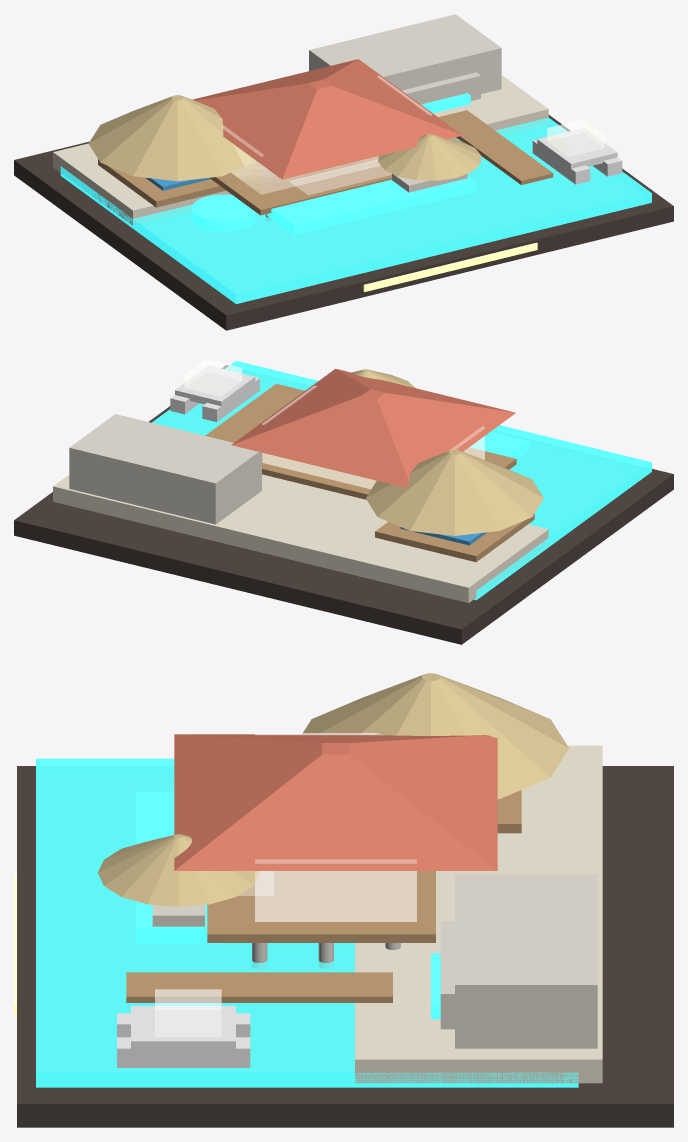
Rendered from maqueta_02_okinawa.glb.
3 renders of one model, top to bottom at view 1: azimuth 30°, elevation 25°; view 2: azimuth 150°, elevation 25°; view 3: azimuth 270°, elevation 25°, orthographic. The views are drawn at different scales.
Visible parts, largest first — view 1: LagoonWaterBase, RyukyuRoofMain, MaquetaPlinth, BambooPalapaVault, LimestoneCliffBack, WhiteCoralBeach, SaltInfinityPool, OverwaterDeck, RobataThatchRoof, WoodenPier, MainVillaGlass, CatamaranDeck (+9 smaller); view 2: MaquetaPlinth, WhiteCoralBeach, RyukyuRoofMain, LimestoneCliffBack, LagoonWaterBase, BambooPalapaVault, OverwaterDeck, DojoBeachDeck, WoodenPier, CatamaranDeck, MainVillaGlass, CatamaranCabin (+3 smaller); view 3: MaquetaPlinth, LagoonWaterBase, RyukyuRoofMain, WhiteCoralBeach, LimestoneCliffBack, OverwaterDeck, BambooPalapaVault, MainVillaGlass, WoodenPier, RobataThatchRoof, CatamaranDeck, SaltInfinityPool (+7 smaller).
Part boxes in pixels (left/top/right/bottom): LagoonWaterBase: left=60, top=117, right=651, bottom=303; RyukyuRoofMain: left=193, top=59, right=462, bottom=179; MaquetaPlinth: left=14, top=115, right=673, bottom=330; BambooPalapaVault: left=88, top=95, right=255, bottom=181; LimestoneCliffBack: left=309, top=14, right=501, bottom=93; WhiteCoralBeach: left=53, top=75, right=548, bottom=225; SaltInfinityPool: left=266, top=176, right=475, bottom=235; OverwaterDeck: left=209, top=156, right=391, bottom=215; RobataThatchRoof: left=378, top=134, right=481, bottom=180; WoodenPier: left=438, top=110, right=553, bottom=184; MainVillaGlass: left=222, top=76, right=431, bottom=194; CatamaranDeck: left=537, top=128, right=617, bottom=168; MaquetaPlinth: left=14, top=365, right=673, bottom=644; WhiteCoralBeach: left=53, top=474, right=548, bottom=602; RyukyuRoofMain: left=231, top=368, right=515, bottom=487; LimestoneCliffBack: left=69, top=414, right=261, bottom=524; LagoonWaterBase: left=152, top=361, right=651, bottom=600; BambooPalapaVault: left=365, top=449, right=543, bottom=535; OverwaterDeck: left=262, top=447, right=516, bottom=499; DojoBeachDeck: left=375, top=513, right=534, bottom=562; WoodenPier: left=205, top=383, right=304, bottom=442; CatamaranDeck: left=175, top=365, right=255, bottom=406; MainVillaGlass: left=262, top=386, right=484, bottom=489; CatamaranCabin: left=184, top=359, right=242, bottom=396; MaquetaPlinth: left=17, top=766, right=673, bottom=1127; LagoonWaterBase: left=36, top=758, right=578, bottom=1087; RyukyuRoofMain: left=174, top=734, right=497, bottom=870; WhiteCoralBeach: left=355, top=745, right=602, bottom=1083; LimestoneCliffBack: left=455, top=874, right=597, bottom=1048; OverwaterDeck: left=207, top=871, right=435, bottom=942; BambooPalapaVault: left=302, top=673, right=568, bottom=798; MainVillaGlass: left=255, top=733, right=416, bottom=921; WoodenPier: left=126, top=972, right=392, bottom=1002; RobataThatchRoof: left=98, top=834, right=259, bottom=906; CatamaranDeck: left=131, top=1006, right=235, bottom=1051; SaltInfinityPool: left=136, top=791, right=221, bottom=943.
Size of what is drawn, in the model's own units: 16.8 by 4.4 by 13.86.
